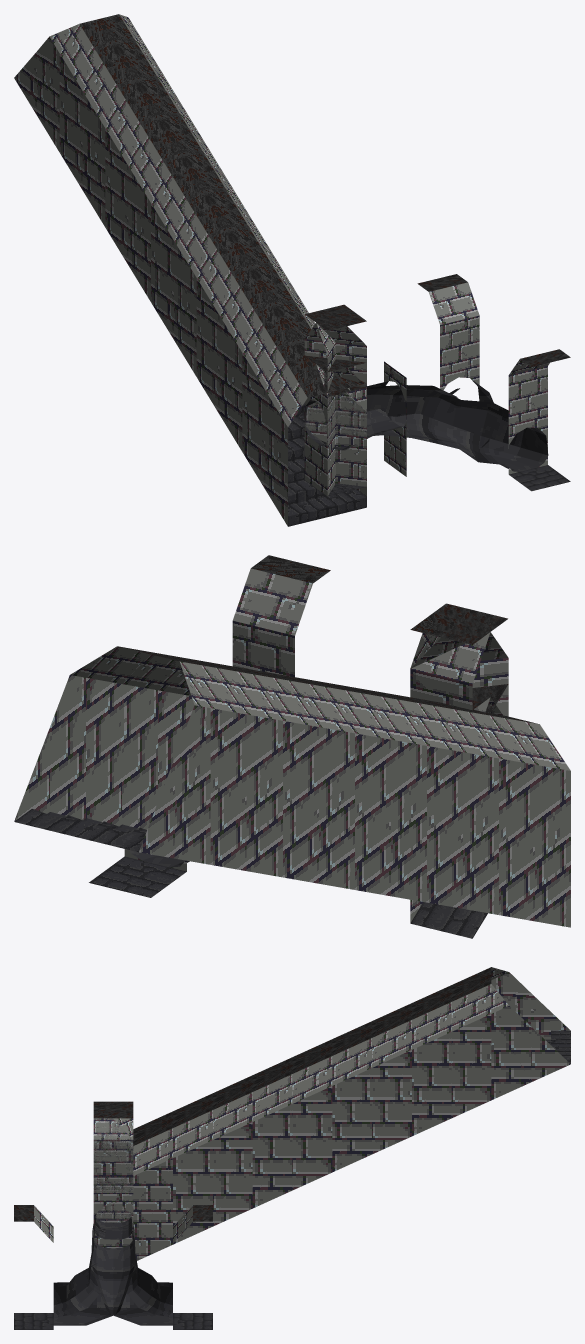
The model's file is wall-chunks.glb.
The picture shows the model from 3 angles, top to bottom: view 1: azimuth 30°, elevation 25°; view 2: azimuth 150°, elevation 25°; view 3: azimuth 270°, elevation 25°; orthographic projection. The views are drawn at different scales.
Parts seen in each view (by area): view 1: escaleras-col, wall-agujero-col, wall-agujero-mirror-col, diagonal_2-col, wall-agujero-corto-col, diagonal_2-alta-col, diagonal_1-col, diagonal_1-alta-col; view 2: escaleras-col, wall-agujero-col, corner-alta-col, wall-agujero-mirror-col, wall_inclinada_inv-col, diagonal_1-alta-col, ground-alta-col, out_corner-alta-col, wall-alta-col; view 3: escaleras-col, wall-agujero-col, wall-agujero-mirror-col, corner-alta-col, wall-agujero-corto-col, corner-col, wall-col, ground-alta-col, wall-alta-falsa-col.
Boxes of the visible parts, box(x1,y1,x2,y2) form: escaleras-col: box(14, 14, 366, 526); wall-agujero-col: box(367, 349, 570, 491); wall-agujero-mirror-col: box(307, 274, 493, 494); diagonal_2-col: box(305, 364, 366, 496); wall-agujero-corto-col: box(304, 361, 406, 496); diagonal_2-alta-col: box(304, 323, 366, 436); diagonal_1-col: box(316, 364, 335, 495); diagonal_1-alta-col: box(306, 313, 335, 445); escaleras-col: box(14, 646, 570, 927); wall-agujero-col: box(232, 555, 330, 676); corner-alta-col: box(410, 611, 506, 710); wall-agujero-mirror-col: box(89, 686, 490, 897); wall_inclinada_inv-col: box(410, 684, 508, 938); diagonal_1-alta-col: box(410, 632, 508, 716); ground-alta-col: box(410, 603, 506, 644); out_corner-alta-col: box(410, 604, 506, 668); wall-alta-col: box(441, 611, 507, 644); escaleras-col: box(133, 967, 570, 1260); wall-agujero-col: box(14, 1176, 135, 1329); wall-agujero-mirror-col: box(91, 1177, 212, 1329); corner-alta-col: box(93, 1101, 133, 1219); wall-agujero-corto-col: box(93, 1193, 133, 1248); corner-col: box(93, 1176, 133, 1222); wall-col: box(93, 1176, 133, 1222); ground-alta-col: box(93, 1101, 133, 1118); wall-alta-falsa-col: box(93, 1118, 133, 1154).
Bounding box in the file's own units: 6.01 × 8 × 14.
3 materials, 3 textured.
